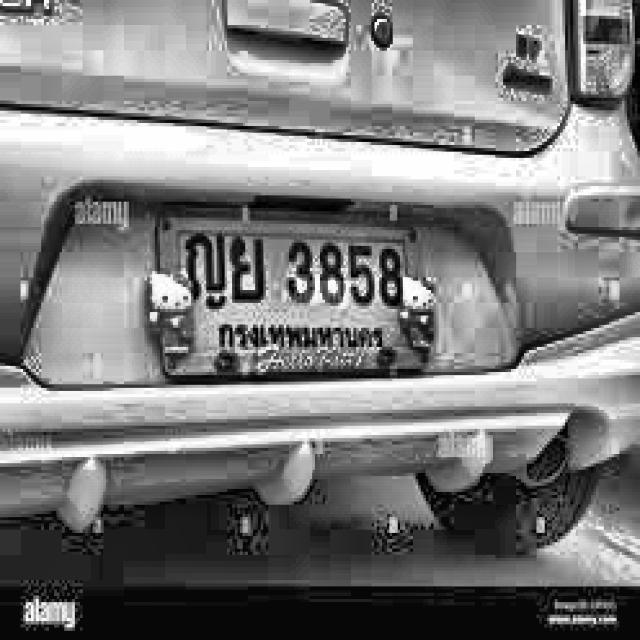license-plate: (147, 219, 432, 378)
